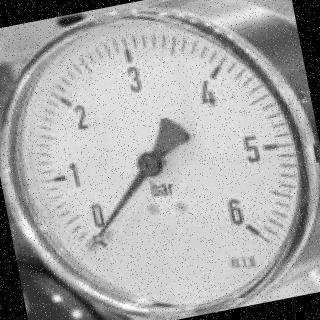gauge: (0, 0, 320, 320), (69, 215, 126, 267), (226, 206, 274, 250), (133, 148, 165, 182), (87, 228, 108, 252)
